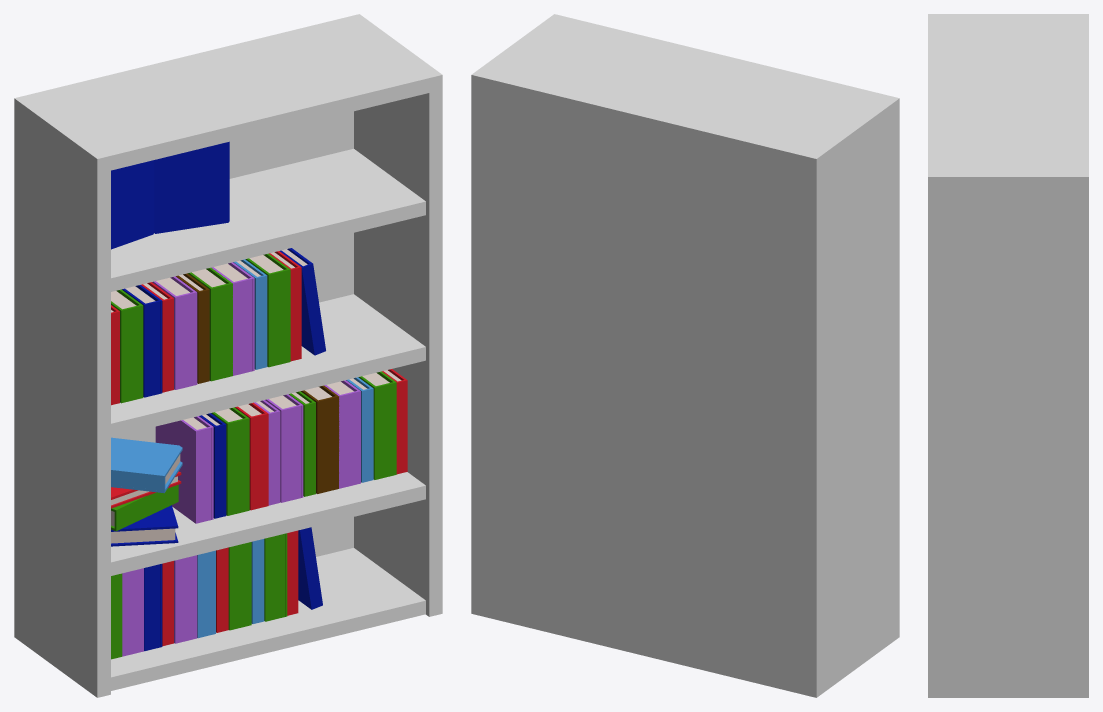
File: BookCase.fbx
3 renders of one model, left to right at view 1: azimuth 30°, elevation 25°; view 2: azimuth 150°, elevation 25°; view 3: azimuth 270°, elevation 25°, orthographic. The views are drawn at different scales.
Visible parts, largest first — view 1: Cube.002, Cube.003, Cube.001, Paper.046, Paper.037, Cube.005, Paper.103, Cube.004, Cube.006, Cube.007, Cube, Paper.014 (+4 smaller); view 2: Cube, Cube.002, Cube.003, Cube.001; view 3: Cube.001, Cube.003.
Boxes of the visible parts, left/top/right/bottom form: Cube.002: left=14, top=113, right=110, bottom=697; Cube.003: left=14, top=14, right=442, bottom=173; Cube.001: left=354, top=89, right=442, bottom=616; Paper.046: left=155, top=369, right=407, bottom=523; Paper.037: left=111, top=248, right=325, bottom=405; Cube.005: left=111, top=148, right=425, bottom=291; Paper.103: left=111, top=527, right=322, bottom=659; Cube.004: left=111, top=548, right=425, bottom=690; Cube.006: left=111, top=294, right=425, bottom=437; Cube.007: left=111, top=472, right=425, bottom=575; Cube: left=111, top=111, right=353, bottom=556; Paper.014: left=154, top=141, right=229, bottom=233; Cube: left=484, top=93, right=802, bottom=694; Cube.002: left=803, top=113, right=899, bottom=697; Cube.003: left=471, top=14, right=899, bottom=173; Cube.001: left=471, top=89, right=484, bottom=616; Cube.001: left=928, top=191, right=1088, bottom=697; Cube.003: left=928, top=14, right=1088, bottom=191.
Size of the model in its own units: 3125 by 4660 by 1303.
